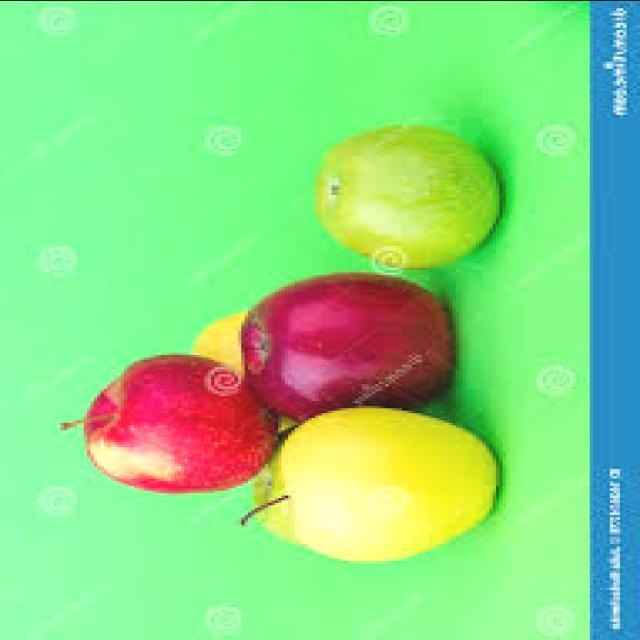agrume: (255, 402, 531, 575), (279, 88, 501, 280), (77, 322, 287, 524), (250, 246, 470, 436), (206, 420, 430, 570), (181, 286, 377, 433)
